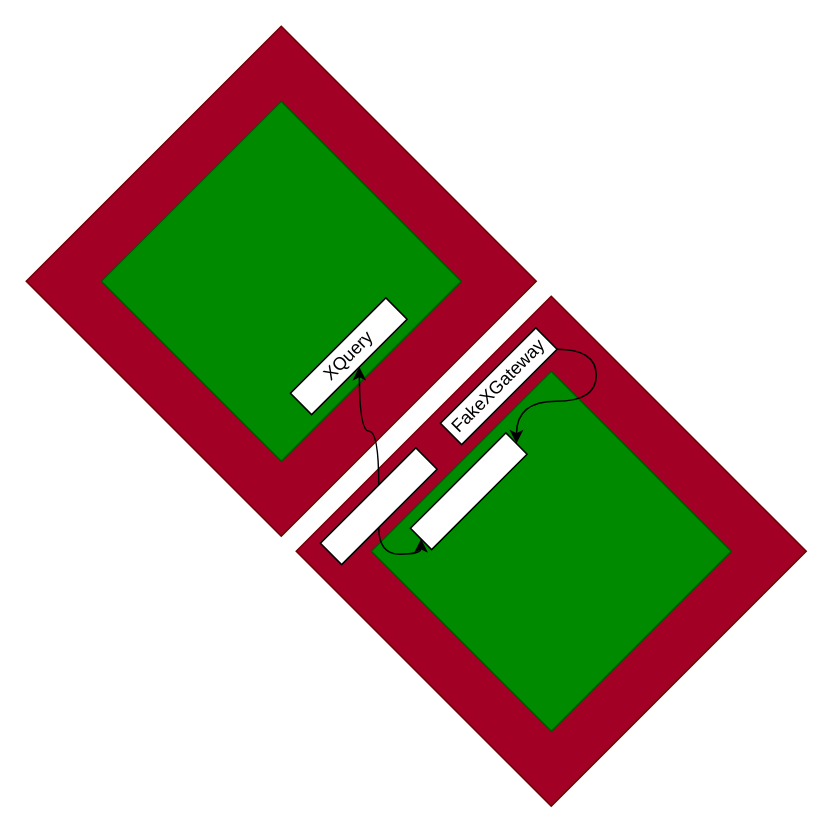
Some shapes in this 833 by 833 pixel diagram are drawn without their labels. The centre of each missing label's shape, as x and y in pixels:
"RealXGateway" belongs at point 378,505.
"XGateway" belongs at point 468,490.
